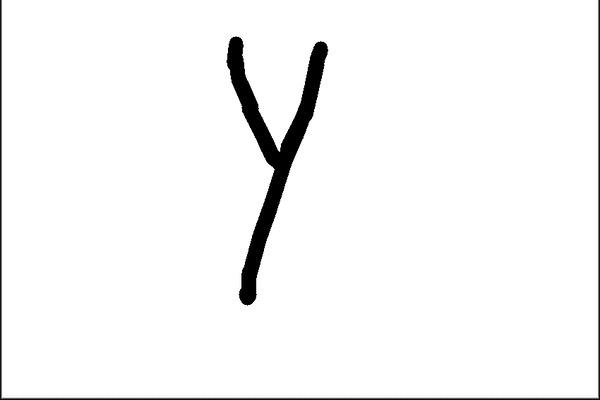Y: (209, 23, 346, 314)
